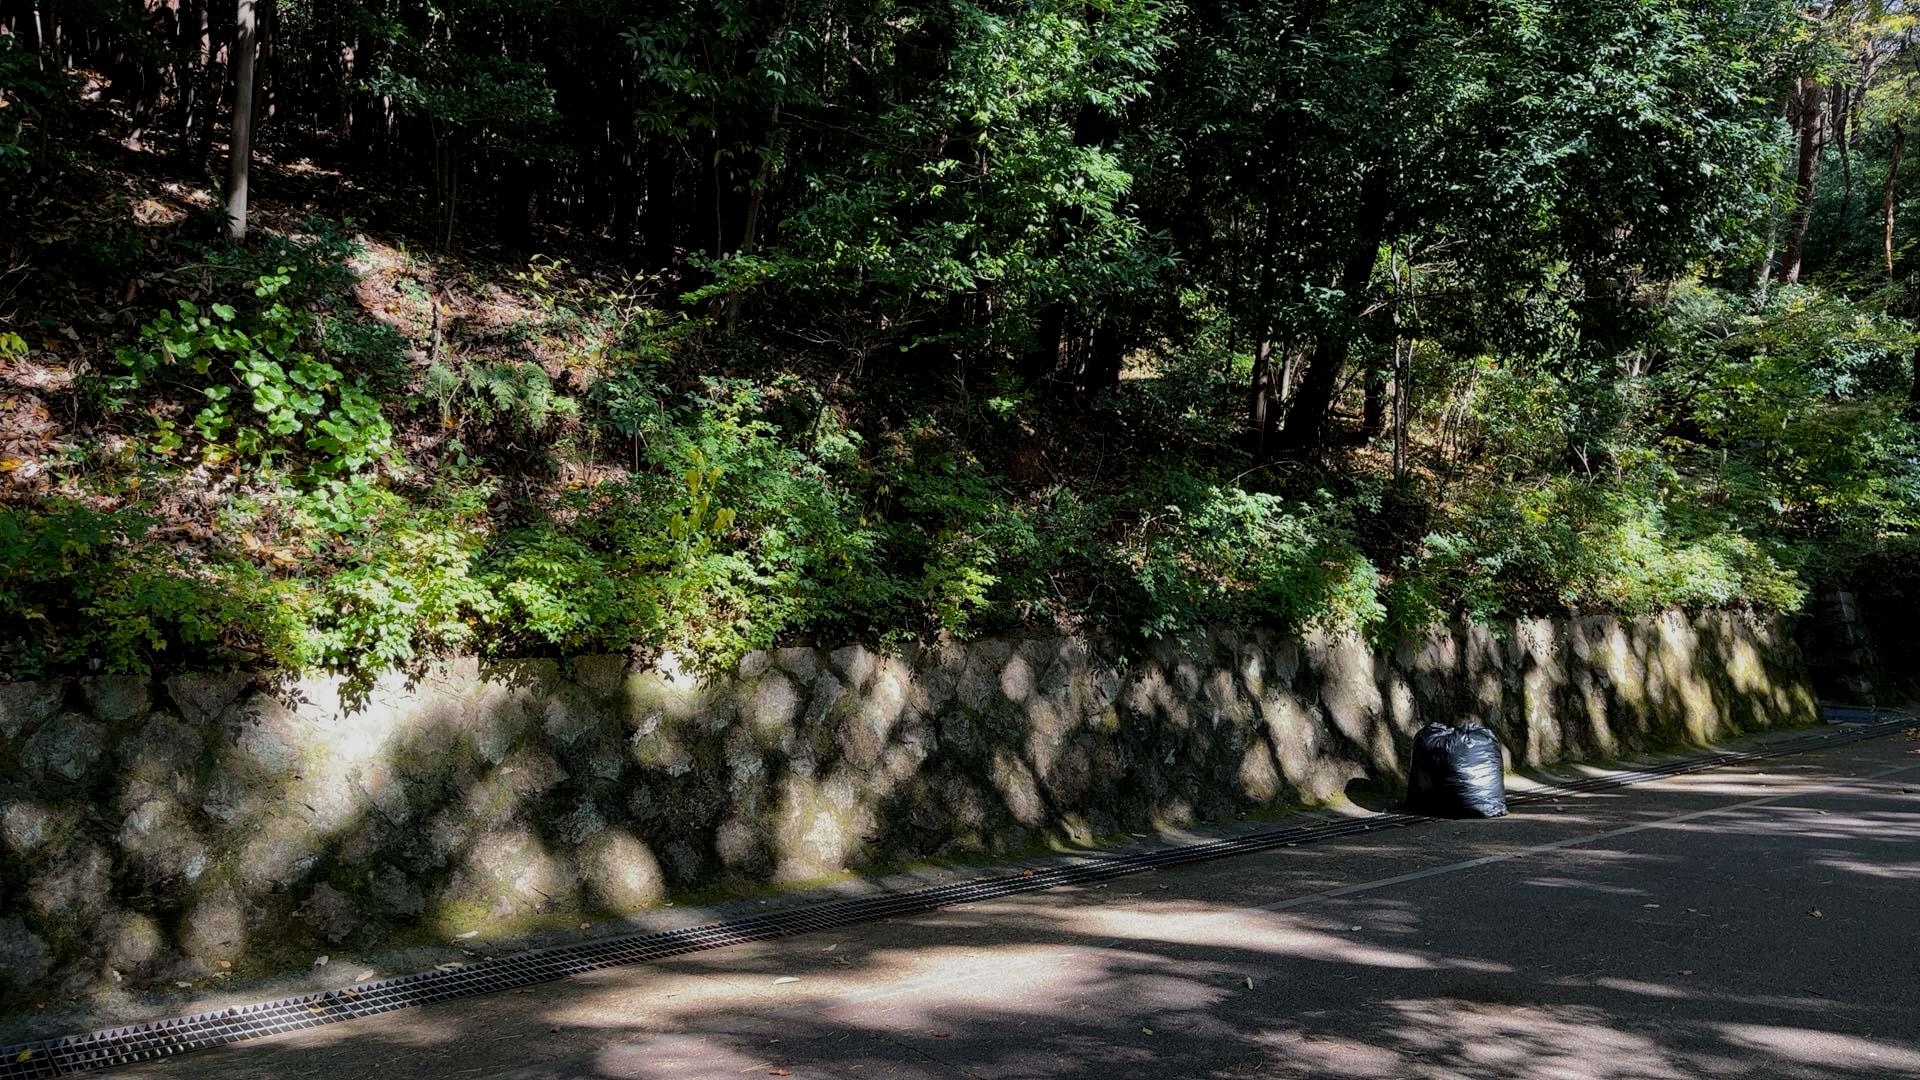black_bag: (1395, 713, 1522, 825)
